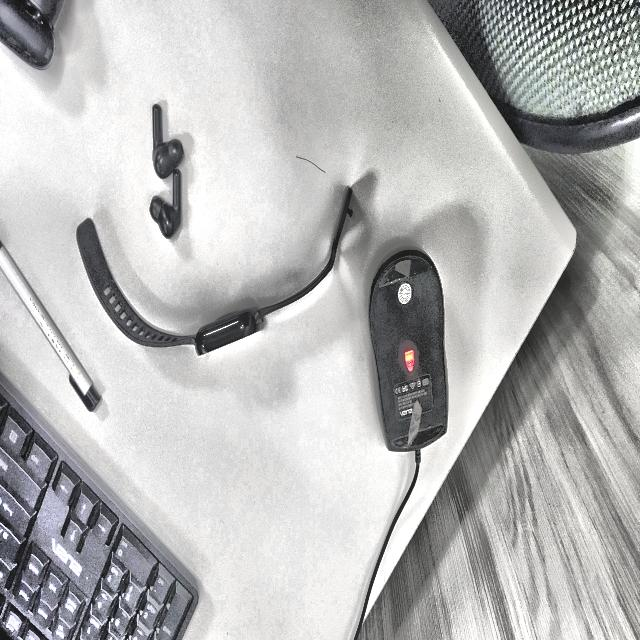Bluetooth headphones: (150, 104, 184, 238), (0, 0, 64, 69)
Electronic watch: (76, 189, 352, 355)
Keyboard: (0, 375, 198, 640)
MOUSE: (369, 250, 448, 451)
